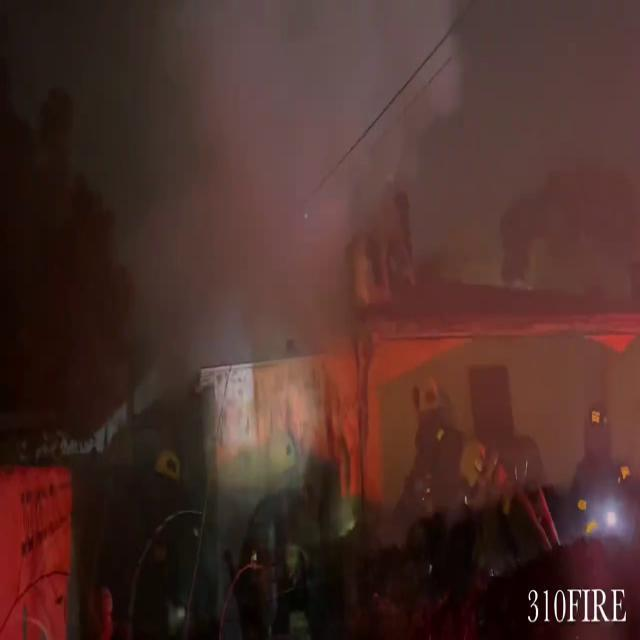Smoke: (73, 0, 632, 524)
